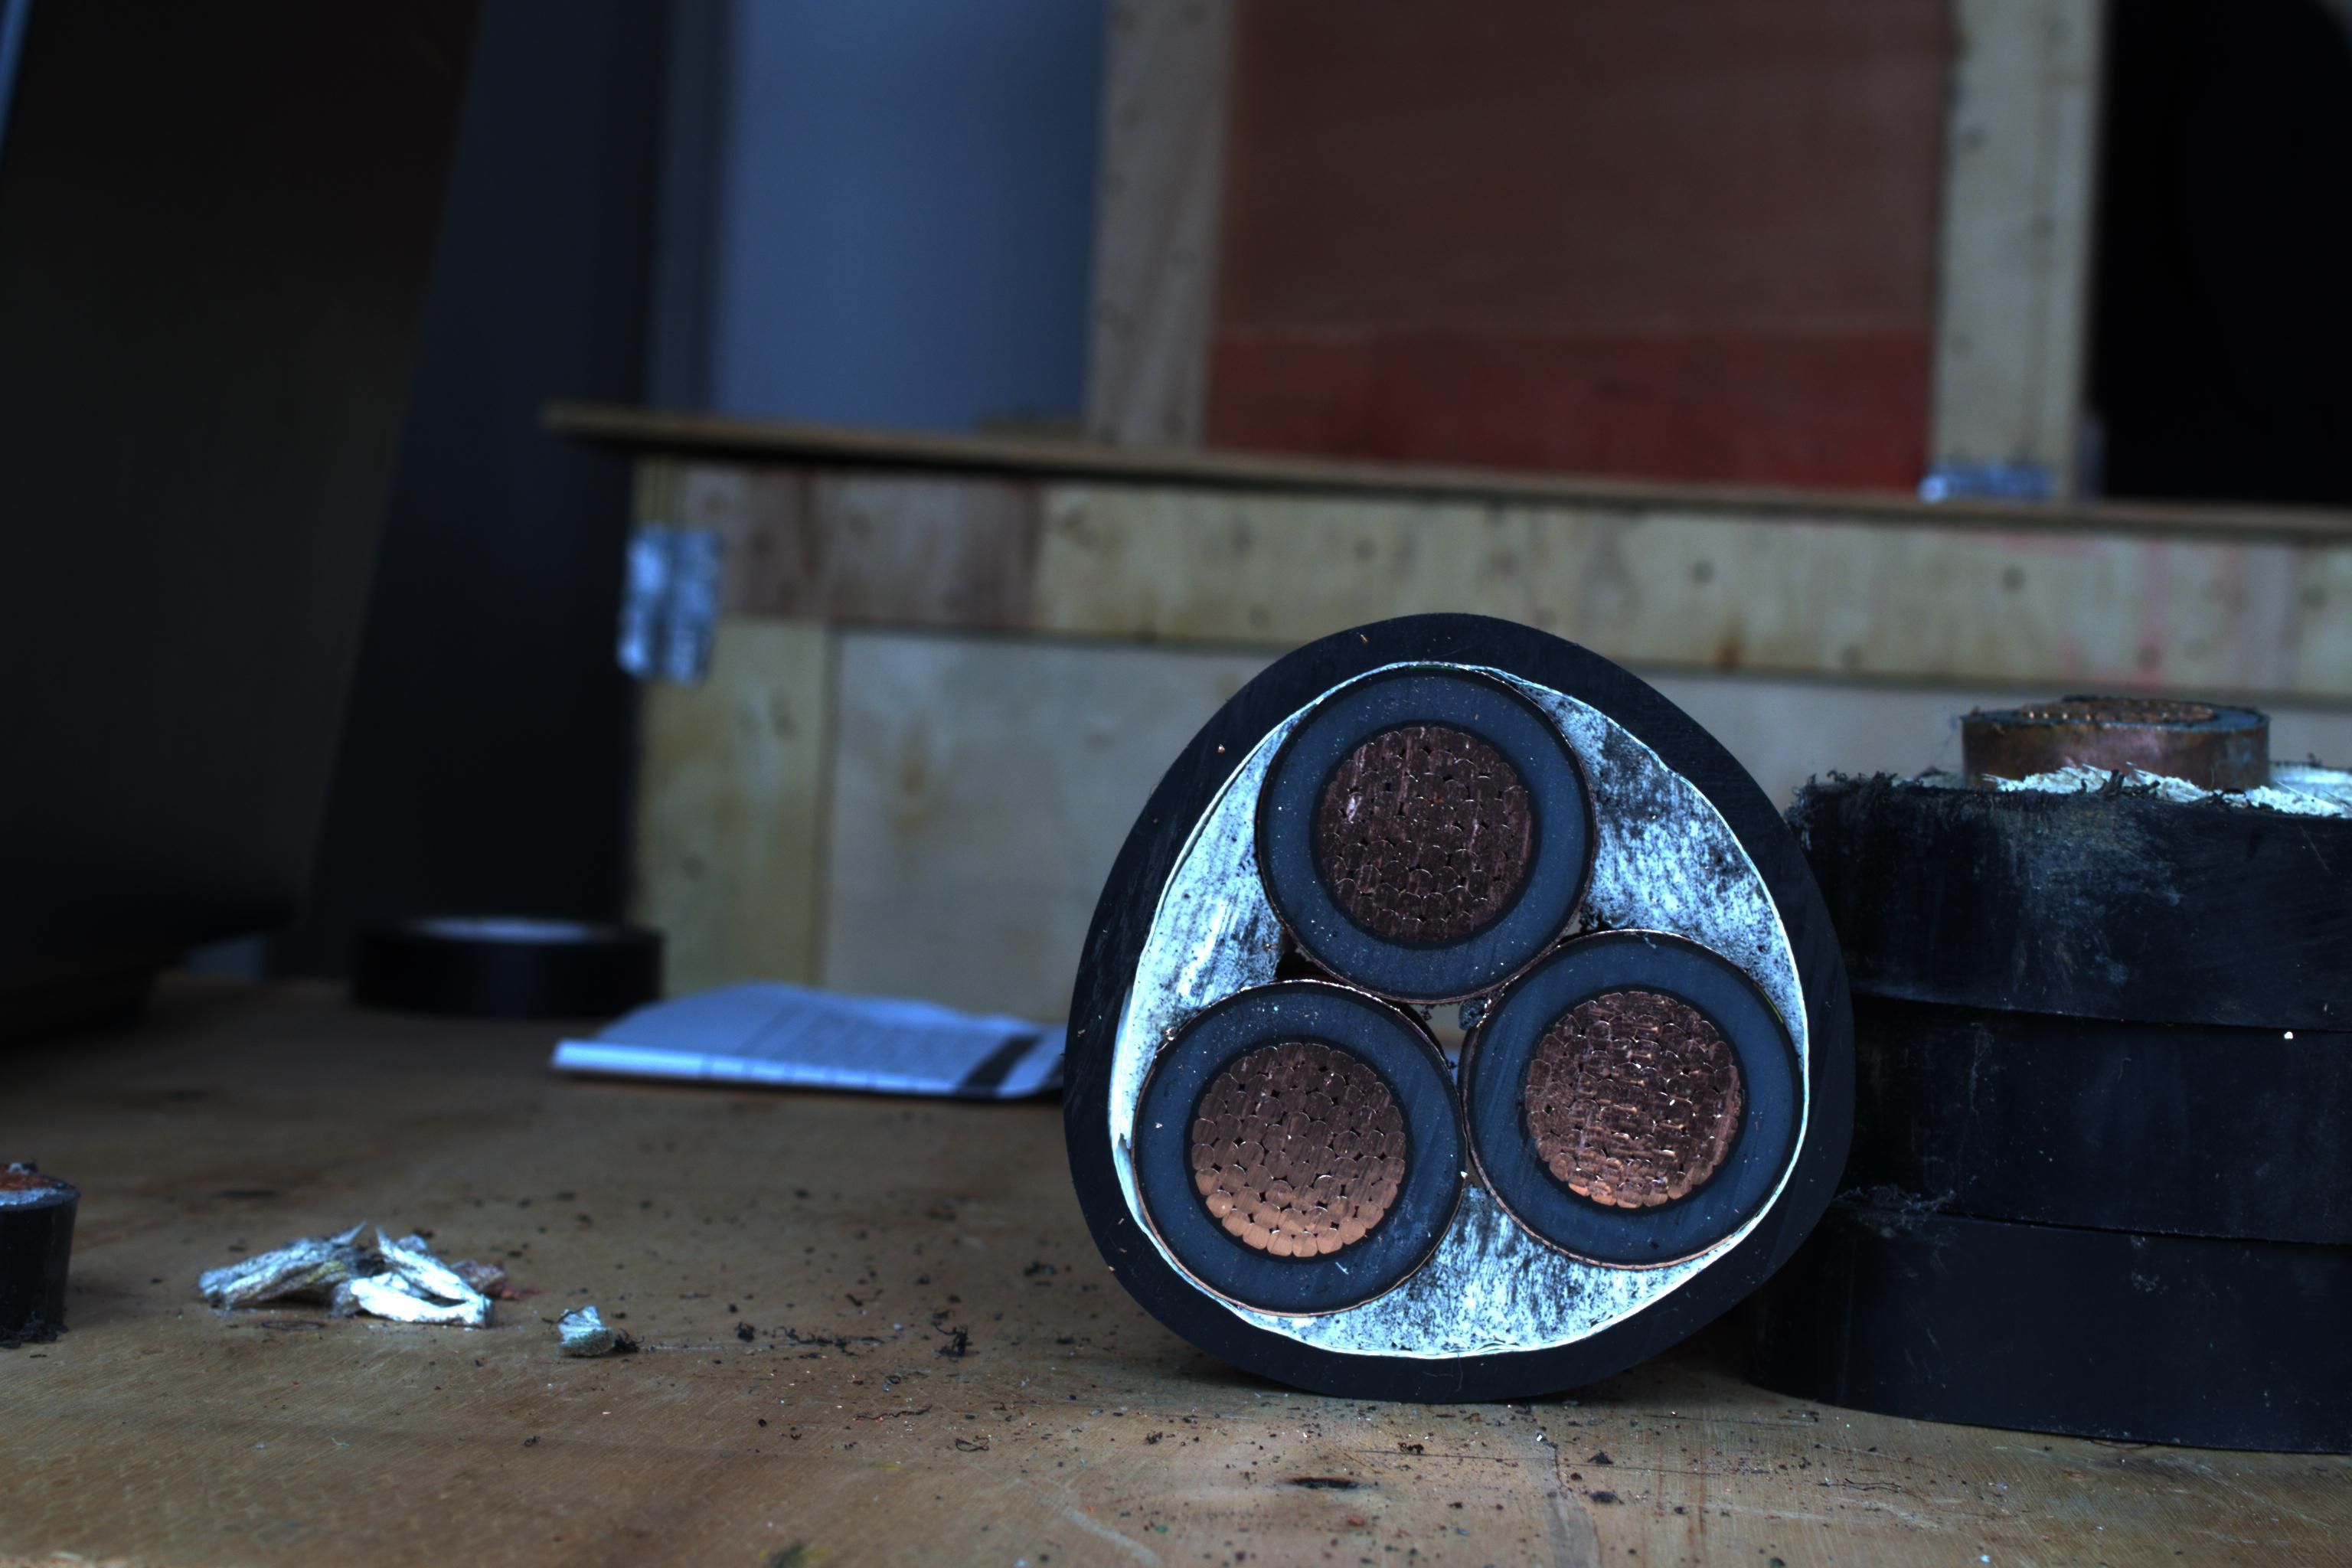ZA_YJV_8.7_10kV_3x400: (1067, 616, 1858, 1379)
